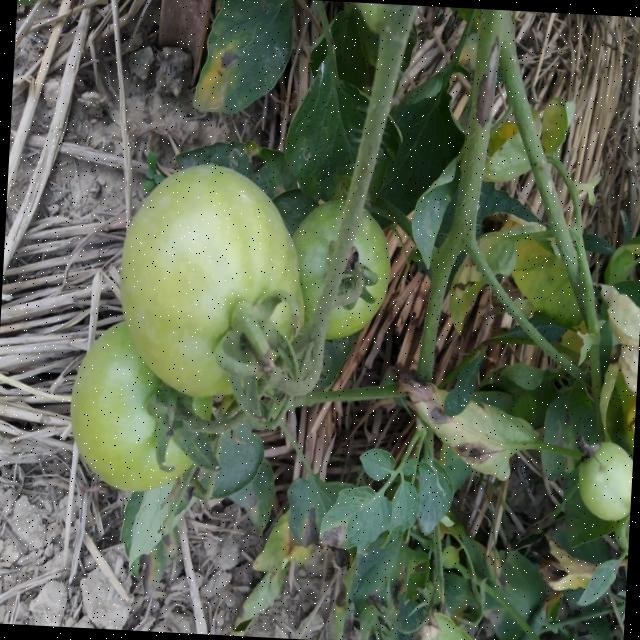Unripe: (115, 160, 311, 400), (64, 318, 214, 496)
